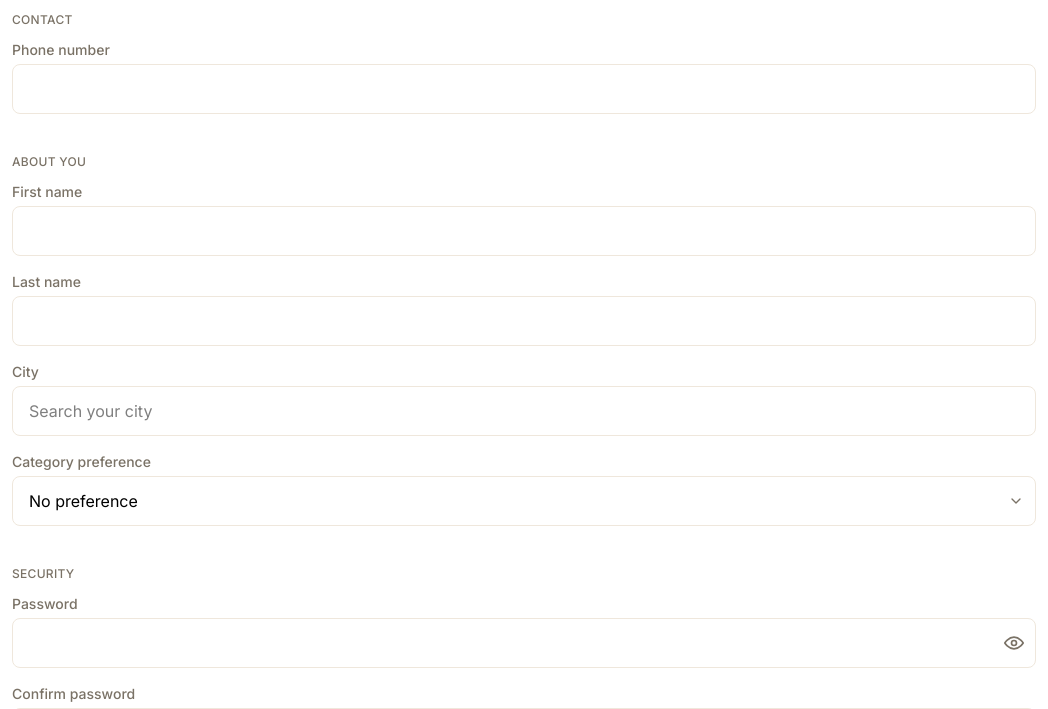
RegisterForm › clears the phone error as soon as it becomes valid, without needing blur
Type "300123" into the field labelled "Phone number" at (524, 89), box [12,64,1036,114]
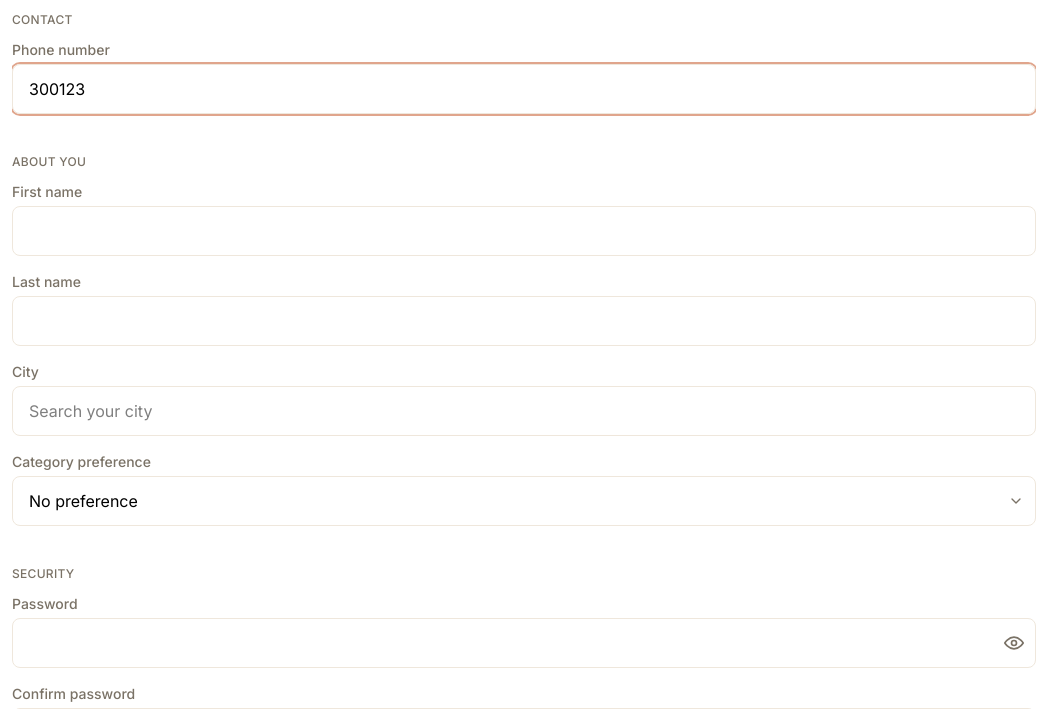
Press Tab
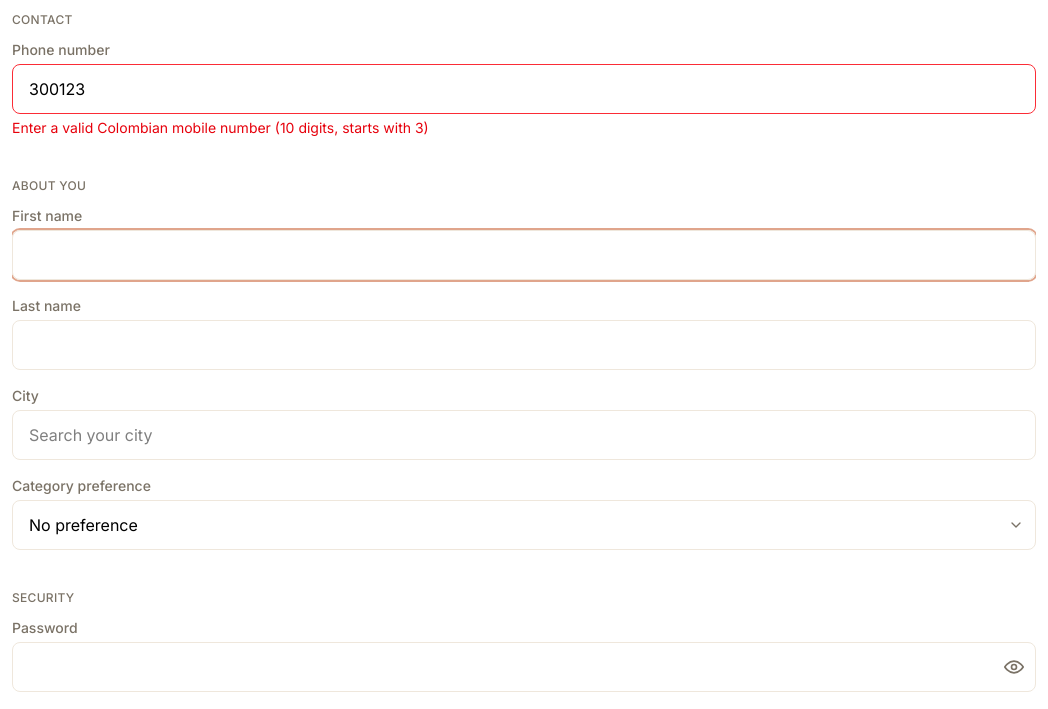
Now the message shows "valid Colombian mobile number", box [12,119,429,136]
Type "4567" into the field labelled "Phone number" at (524, 89), box [12,64,1036,114]
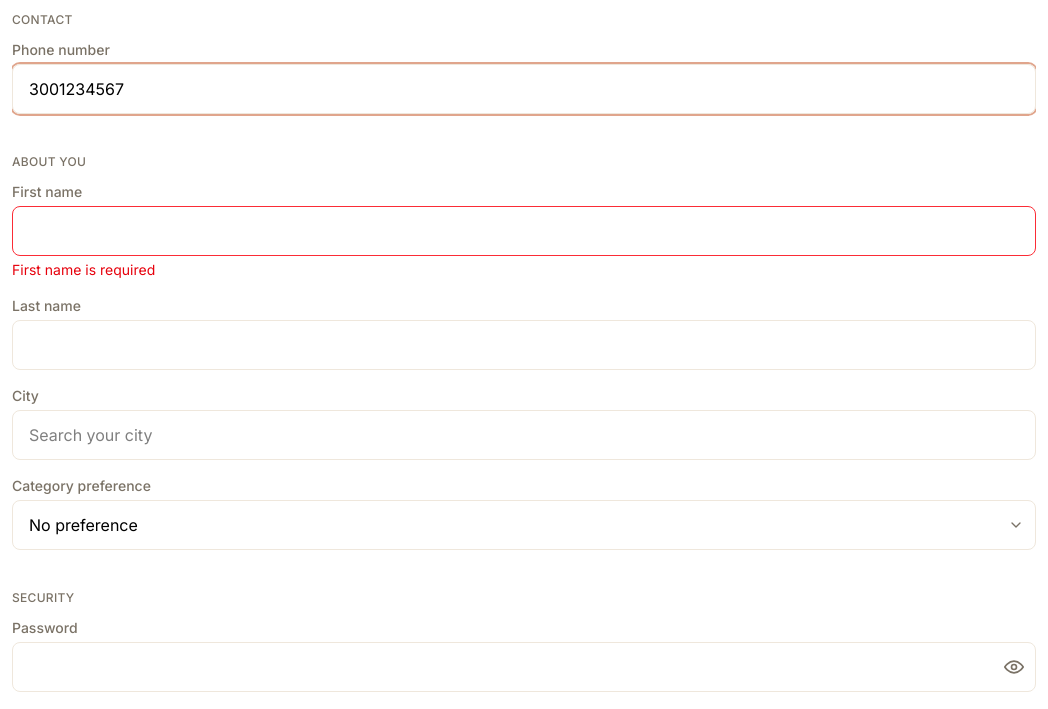
Now the text "valid Colombian mobile number" is gone
